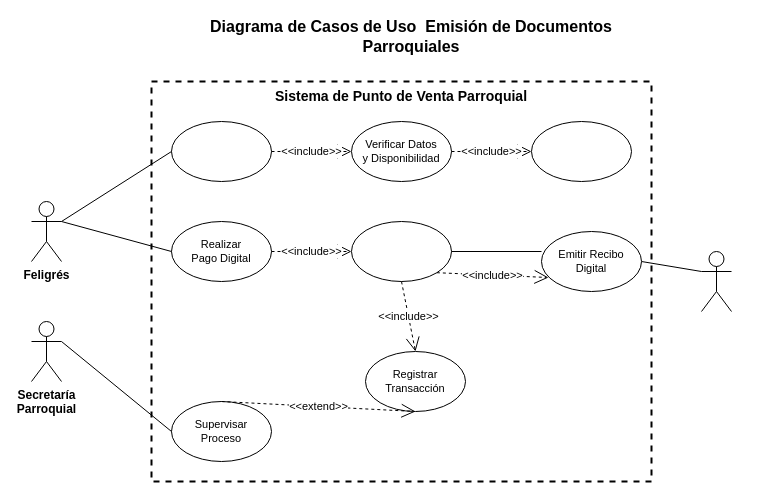
Image size: 768x499. Some labels were removed from this diagram. Each missing label, with the box of its shape:
Generar Documento: (530, 120, 632, 182)
Procesar Pago: (350, 220, 452, 282)
Sistema de Pago Digital: (700, 250, 732, 312)
Solicitar Documento Parroquial: (170, 120, 272, 182)
